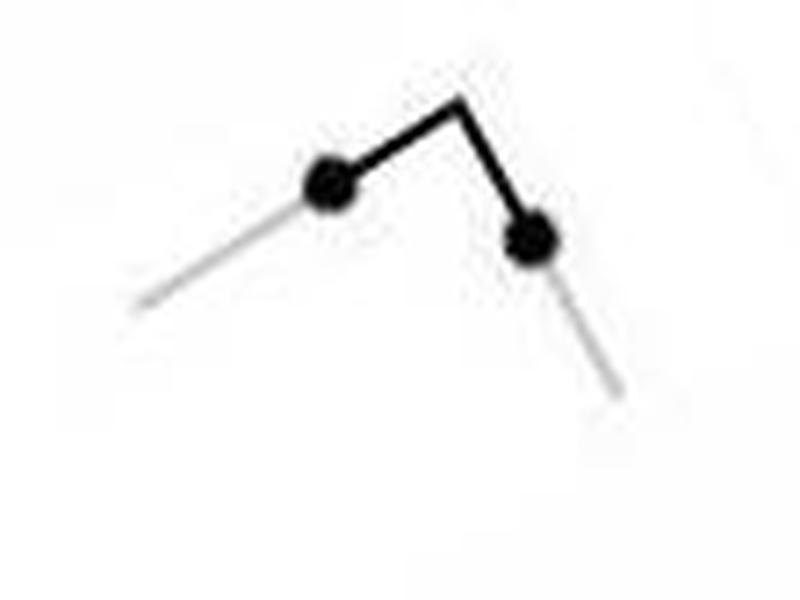butt_weld_90: (134, 67, 638, 357)
